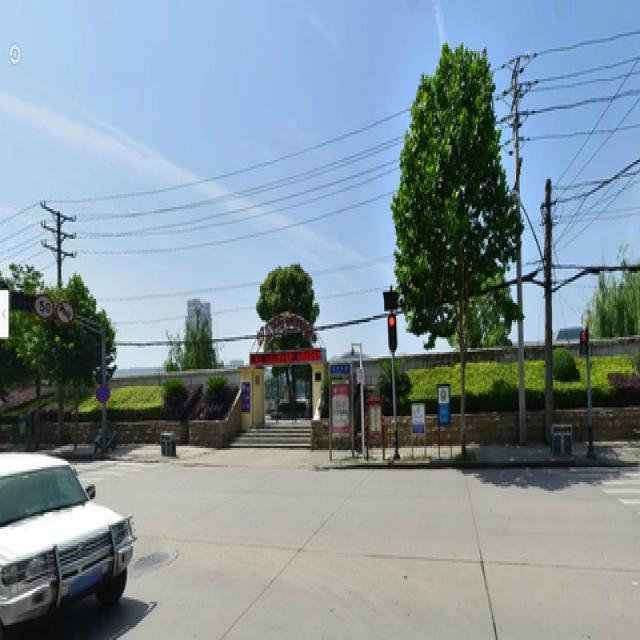meta: (416, 70, 515, 448)
